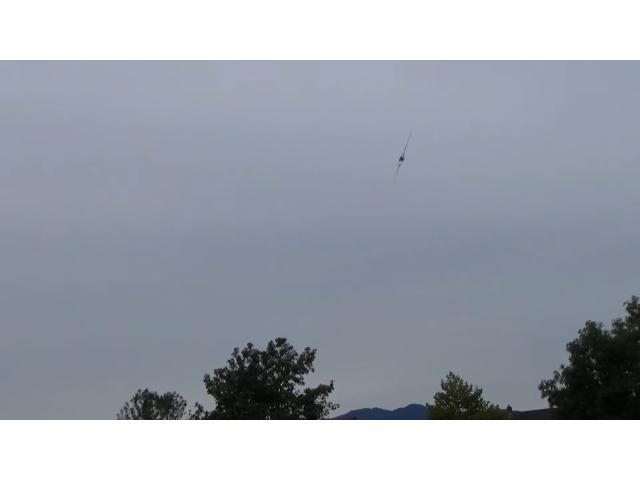Anti-Drone: (392, 130, 412, 184)
